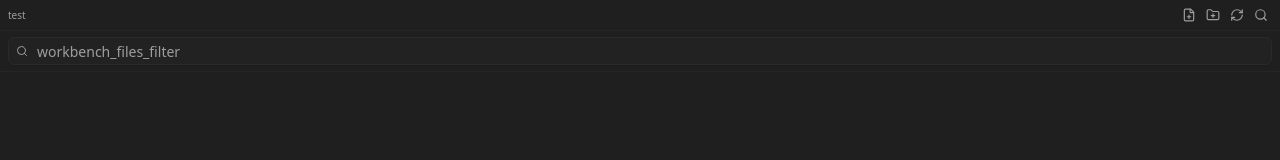
Test: FilesTab — busca em conteúdo › busca sem resultados mostra a mensagem de nenhum resultado
Click the button named "tooltip_files_search". click: point(1261, 15)
box: [1250,4,1272,26]
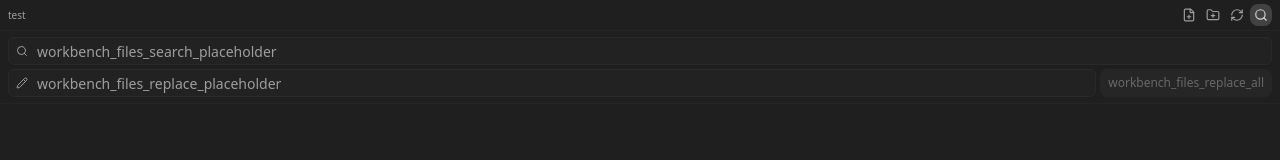
Type "foo" into the search field with placeholder "workbench_files_search_placeholder". click: point(640, 51)
box: [8,37,1272,65]
Wait 350 ms
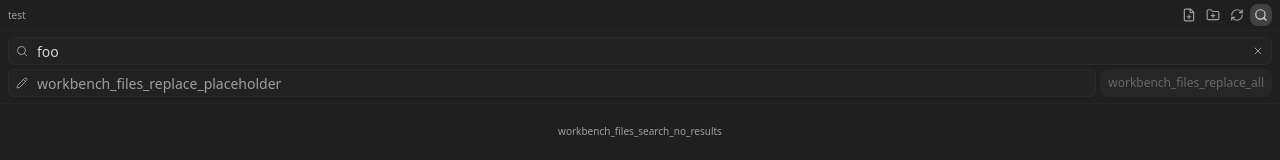
Check: the text "workbench_files_search_no_results" is shown, box [558,124,722,138]
